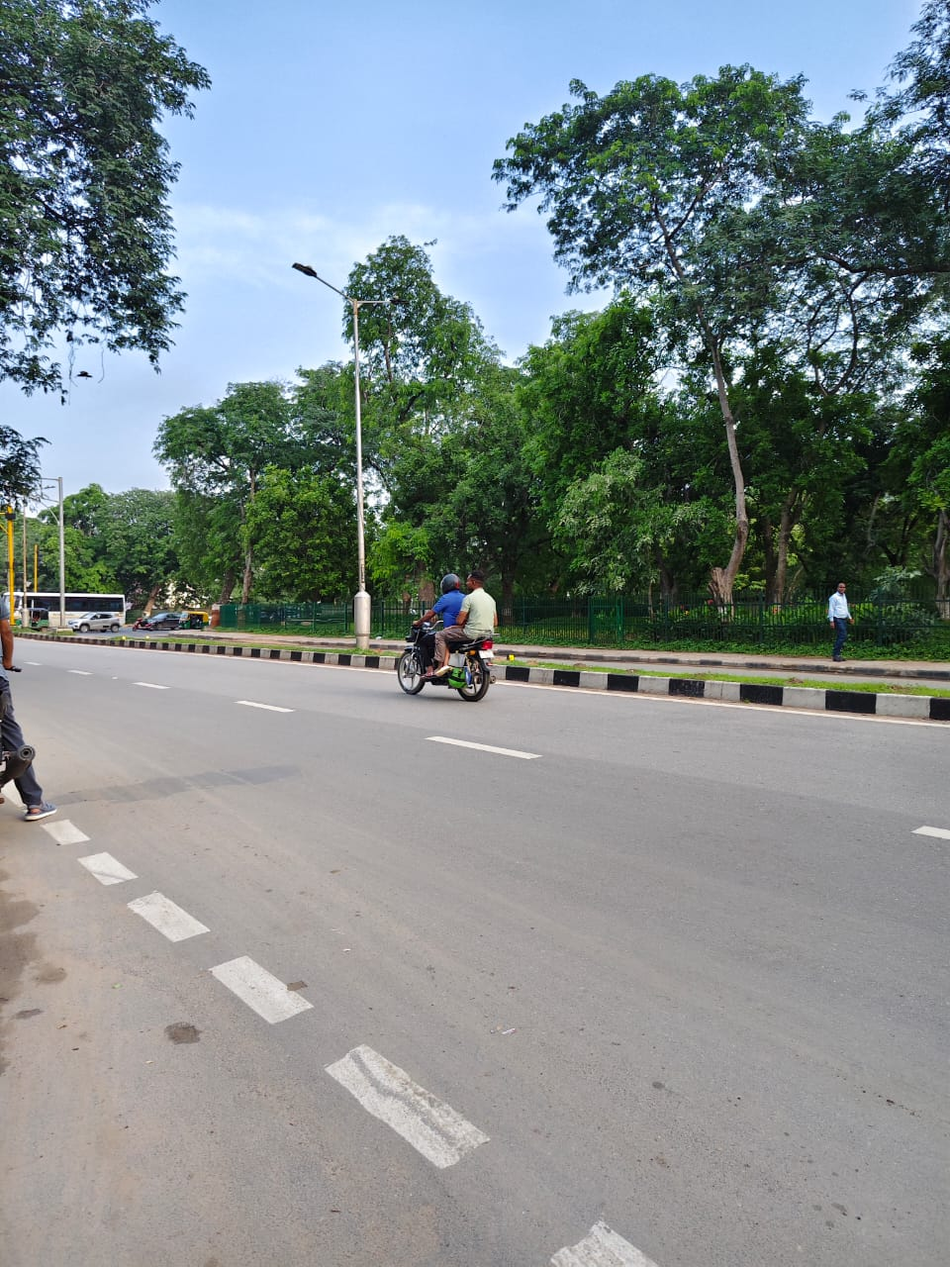BikeWithRider: (388, 566, 510, 703)
Helmet: (436, 573, 461, 598)
NoHelmet: (462, 570, 489, 595)
